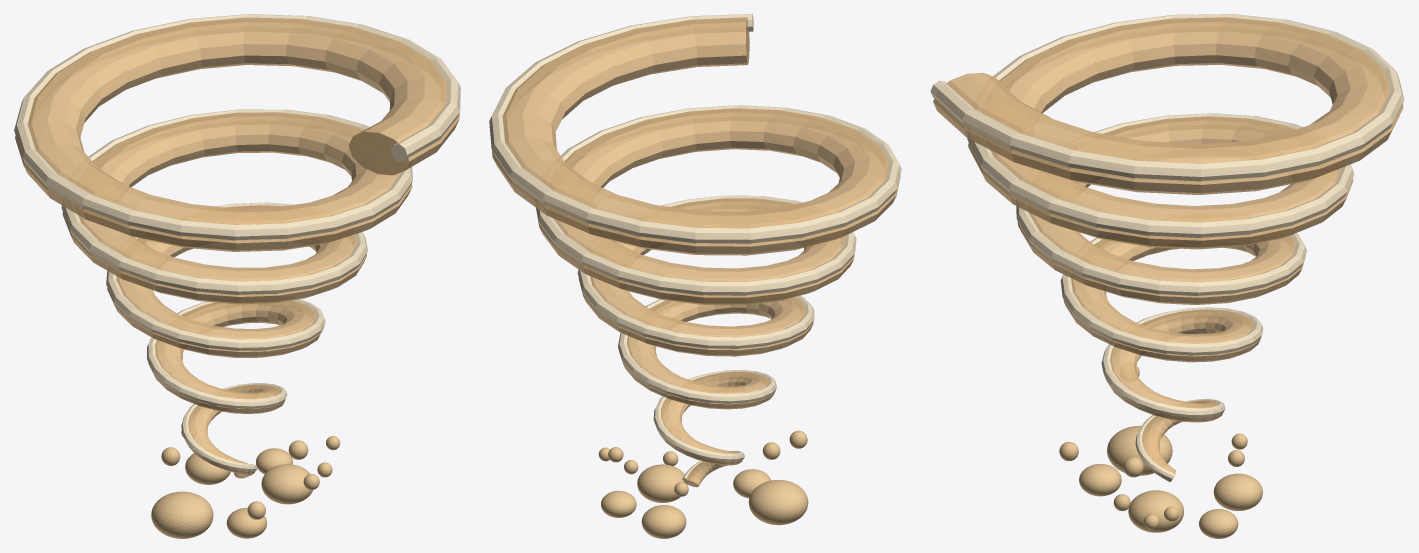
File: vortex_swirl.glb
3 views of the same model, side by side, from view 1: azimuth 30°, elevation 25°; view 2: azimuth 150°, elevation 25°; view 3: azimuth 270°, elevation 25° (orthographic). The views are drawn at different scales.
Parts seen in each view (by area): view 1: Swirl, Stripe, Puff_0, Puff_1, Puff_2, Puff_3, Puff_4; view 2: Swirl, Stripe, Puff_0, Puff_1, Puff_2, Puff_4, Puff_3; view 3: Swirl, Stripe, Puff_1, Puff_2, Puff_0, Puff_3, Puff_4.
Part boxes in pixels (left/top/right/bottom): Swirl: left=15, top=17, right=459, bottom=478; Stripe: left=14, top=14, right=460, bottom=471; Puff_0: left=151, top=491, right=213, bottom=538; Puff_1: left=261, top=464, right=312, bottom=504; Puff_2: left=185, top=453, right=230, bottom=484; Puff_3: left=226, top=507, right=266, bottom=538; Puff_4: left=256, top=448, right=293, bottom=474; Swirl: left=492, top=17, right=900, bottom=487; Stripe: left=489, top=14, right=901, bottom=480; Puff_0: left=748, top=479, right=808, bottom=525; Puff_1: left=637, top=464, right=687, bottom=502; Puff_2: left=641, top=505, right=686, bottom=538; Puff_4: left=601, top=490, right=636, bottom=517; Puff_3: left=733, top=469, right=771, bottom=498; Swirl: left=933, top=17, right=1403, bottom=482; Stripe: left=930, top=14, right=1404, bottom=480; Puff_1: left=1128, top=490, right=1183, bottom=532; Puff_2: left=1213, top=473, right=1262, bottom=510; Puff_0: left=1107, top=425, right=1172, bottom=475; Puff_3: left=1079, top=464, right=1121, bottom=496; Puff_4: left=1199, top=509, right=1238, bottom=538.
Size of the model in its own units: 1.36 by 1.49 by 1.4.
